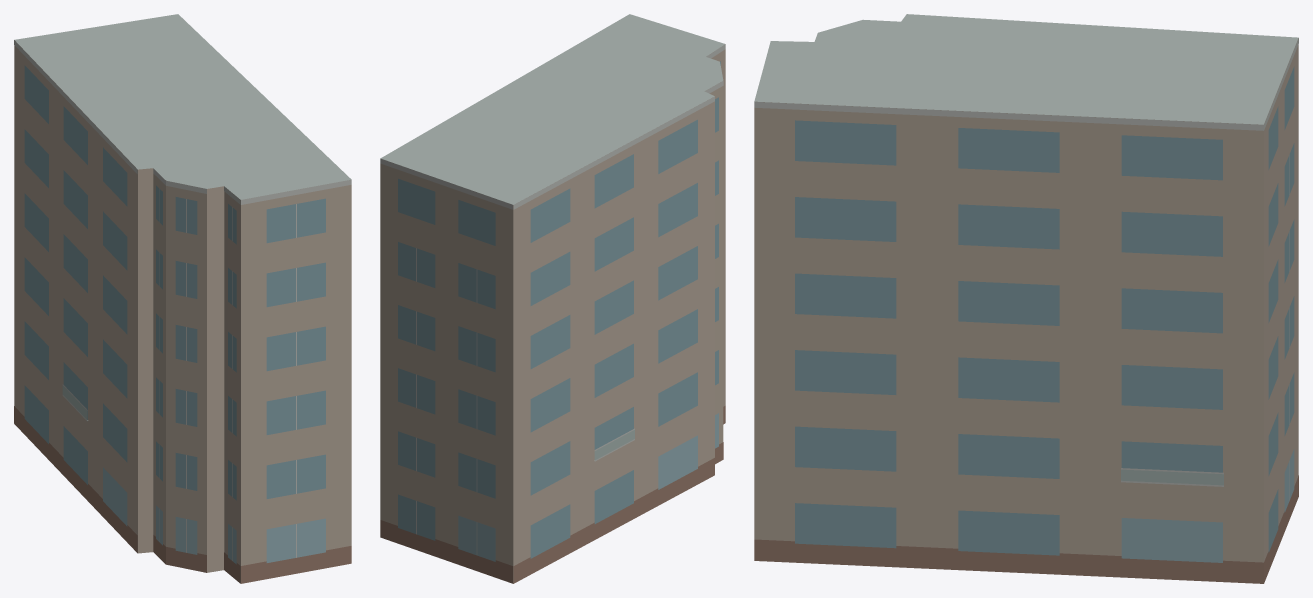
The model's file is survey-upis-32880295.glb.
3 renders of one model, left to right at view 1: azimuth 30°, elevation 25°; view 2: azimuth 150°, elevation 25°; view 3: azimuth 270°, elevation 25°, orthographic. The views are drawn at different scales.
Parts seen in each view (by area): view 1: survey-upis-32880295.tmp; view 2: survey-upis-32880295.tmp; view 3: survey-upis-32880295.tmp.
Boxes of the visible parts, box(x1,y1,x2,y2) form: survey-upis-32880295.tmp: box(14, 14, 351, 583); survey-upis-32880295.tmp: box(380, 14, 725, 583); survey-upis-32880295.tmp: box(754, 14, 1298, 583).
Size of the model in its own units: 9.47 by 18.3 by 19.68.
